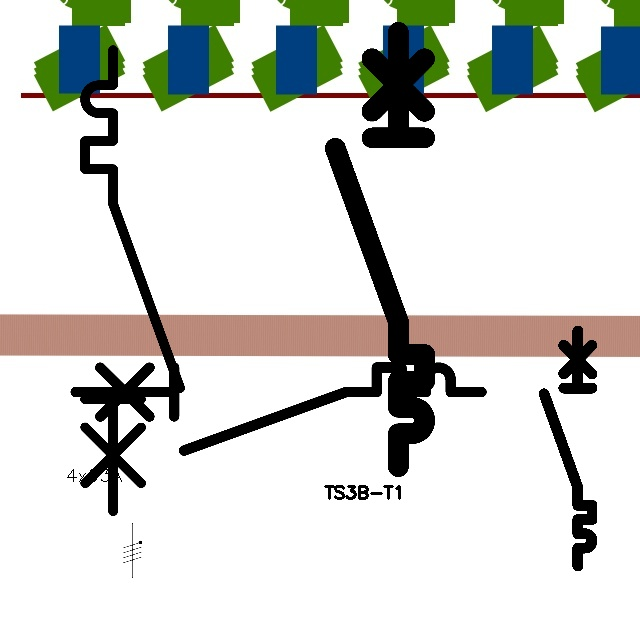interruptor_termomagnetico: (73, 38, 191, 523), (324, 21, 436, 478), (65, 357, 492, 461), (538, 325, 598, 572)
